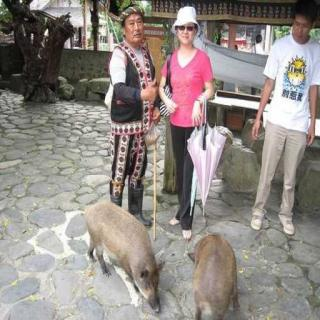Pig: (84, 198, 171, 315), (179, 219, 246, 320)
